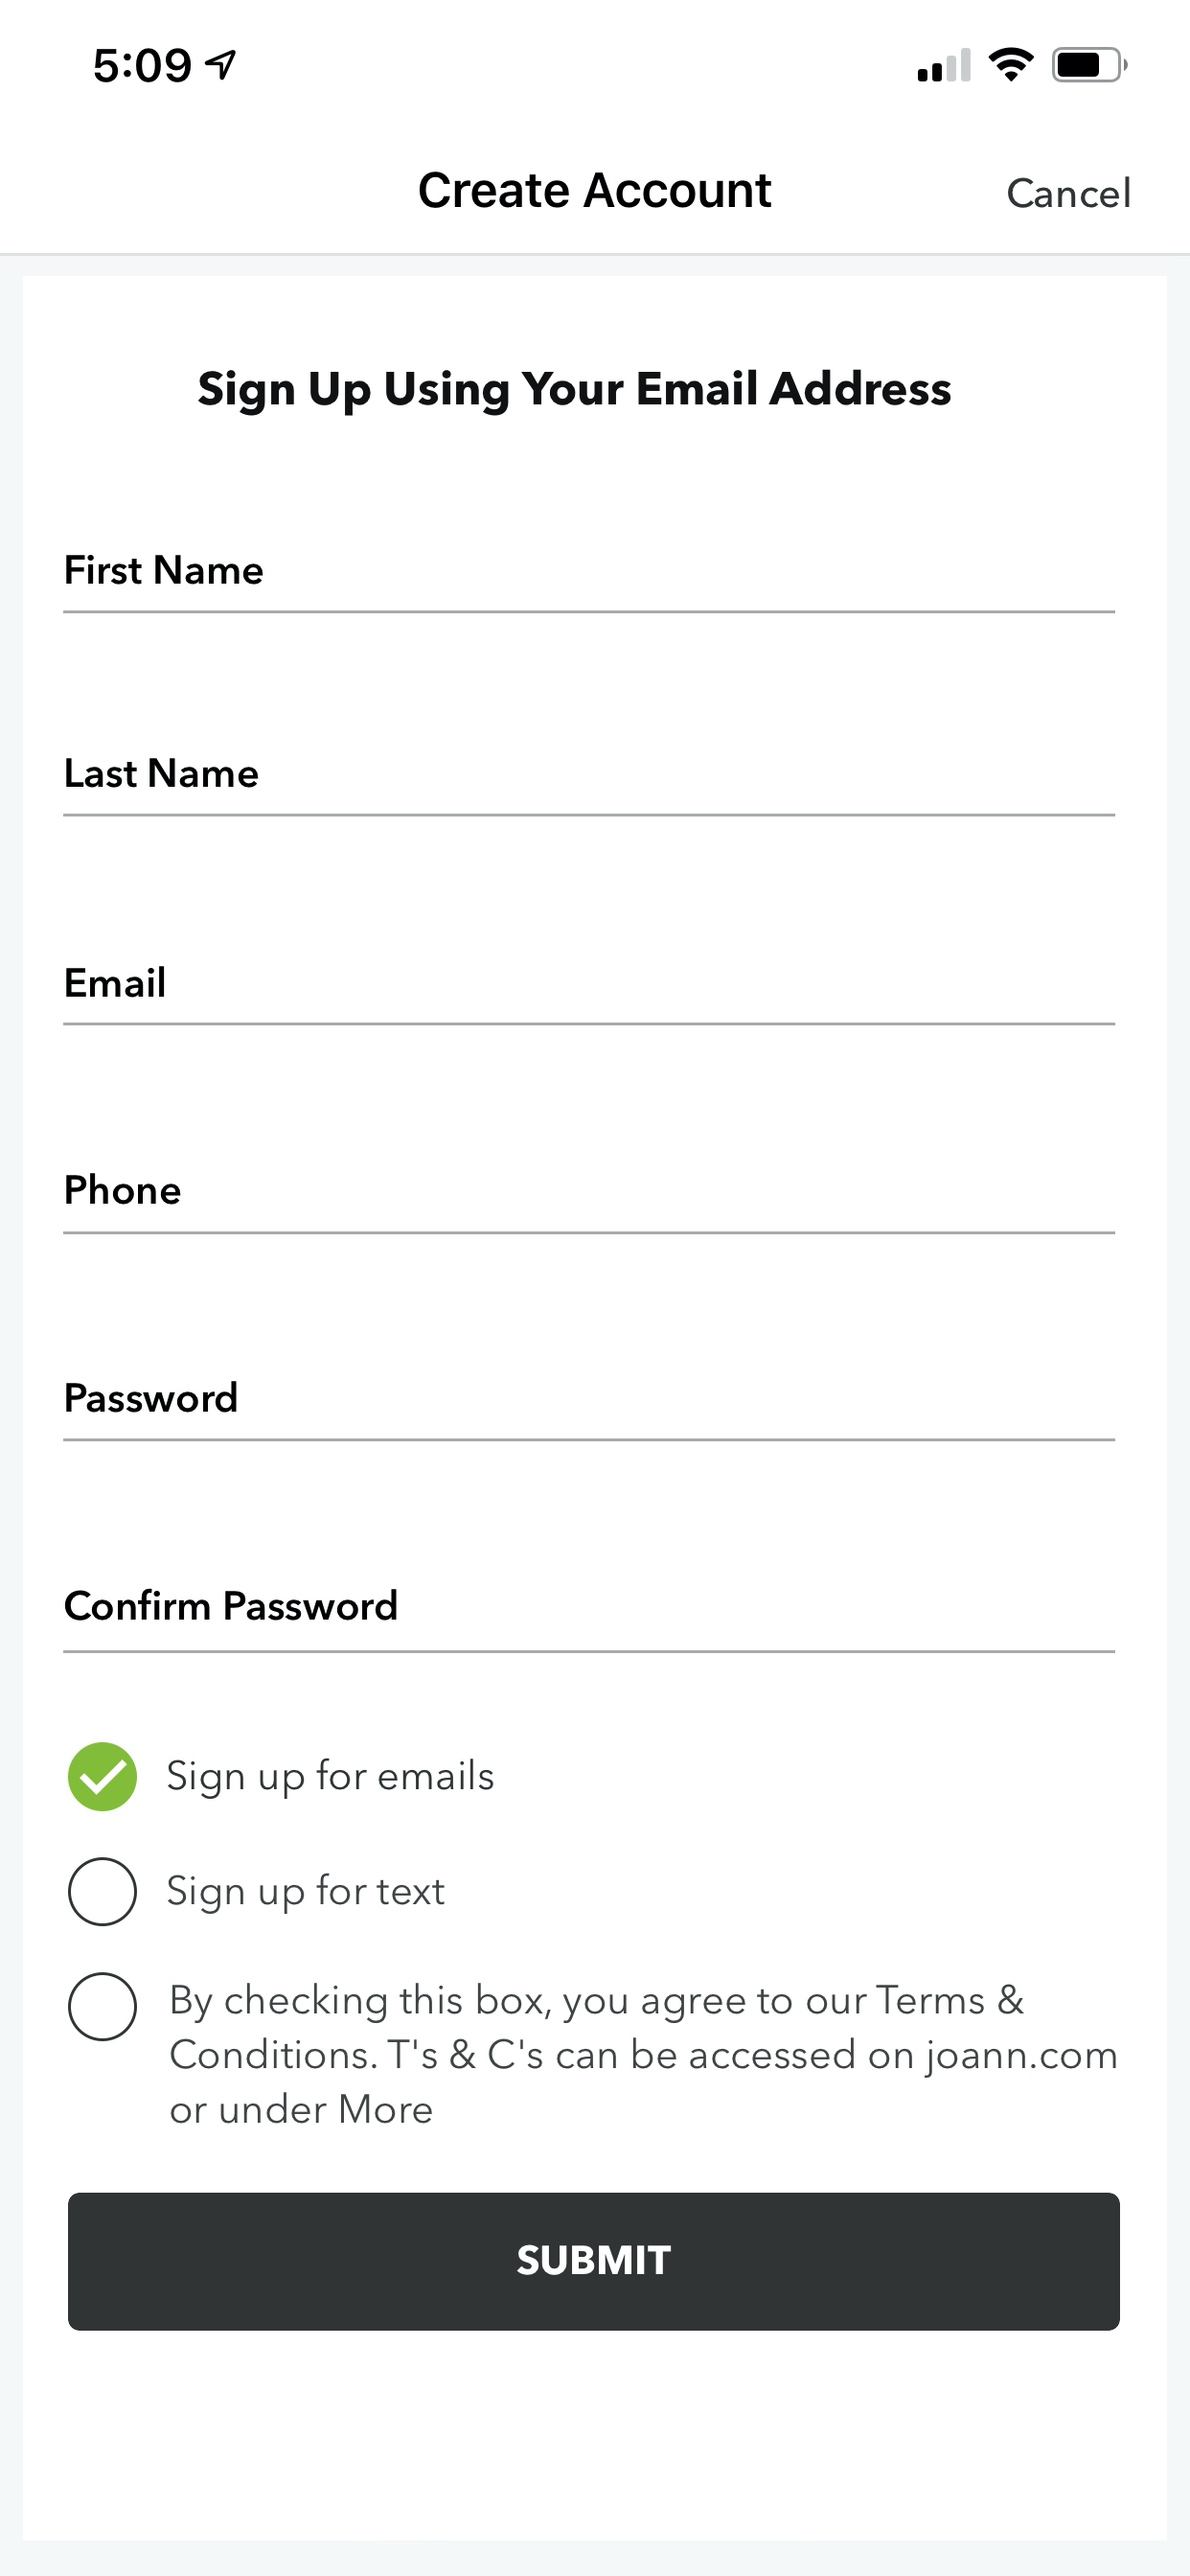CheckedTextView: (67, 1970, 1116, 2124), (67, 1740, 496, 1814), (67, 1855, 449, 1929)
EditText: (64, 1589, 1116, 1653), (64, 1173, 1116, 1235), (64, 1382, 1116, 1442), (64, 966, 1116, 1027), (64, 757, 1116, 818), (64, 555, 1116, 614)
Text: (171, 1981, 1116, 2124), (199, 370, 952, 417), (168, 1758, 495, 1801), (419, 172, 773, 209), (168, 1873, 445, 1916), (66, 1589, 398, 1621), (67, 757, 260, 789), (67, 555, 265, 585), (67, 1382, 238, 1413), (1008, 177, 1129, 209), (67, 1173, 182, 1206), (67, 966, 166, 999)
TextButton: (69, 2193, 1119, 2331)
UpperTaskBar: (95, 48, 1128, 84)
